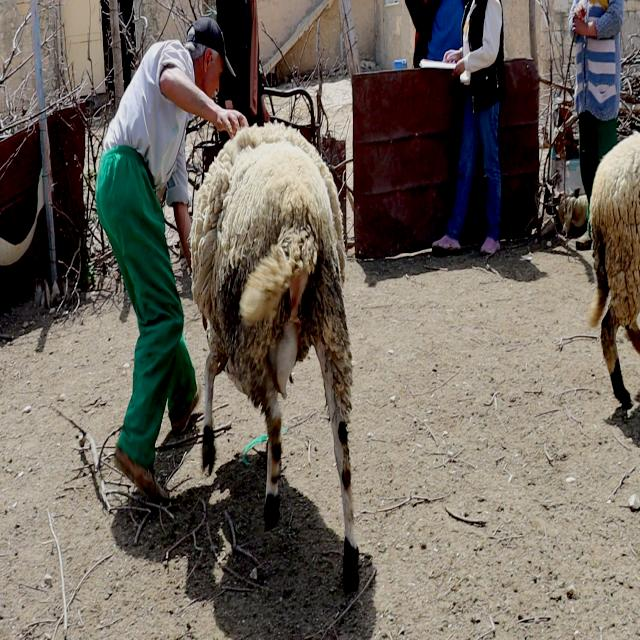Score_5: (191, 123, 359, 590)
